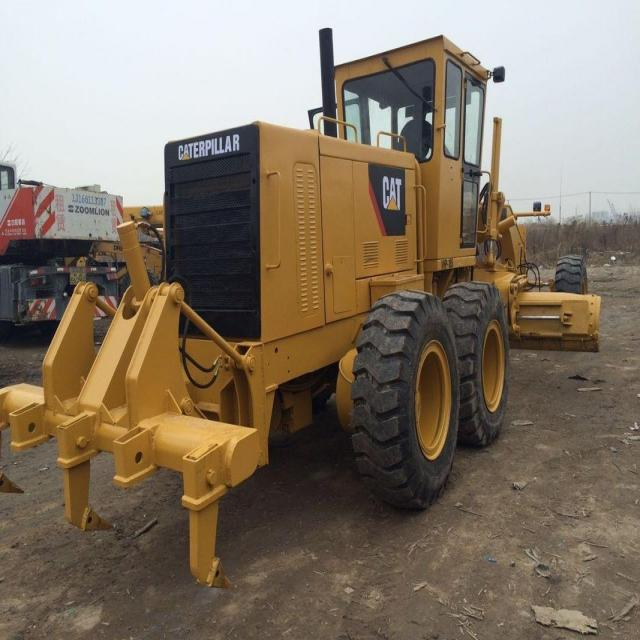Grader: (15, 18, 631, 553)
